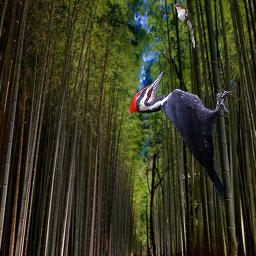Cuckoo: (171, 3, 195, 49)
Woodpecker: (129, 70, 234, 218)
